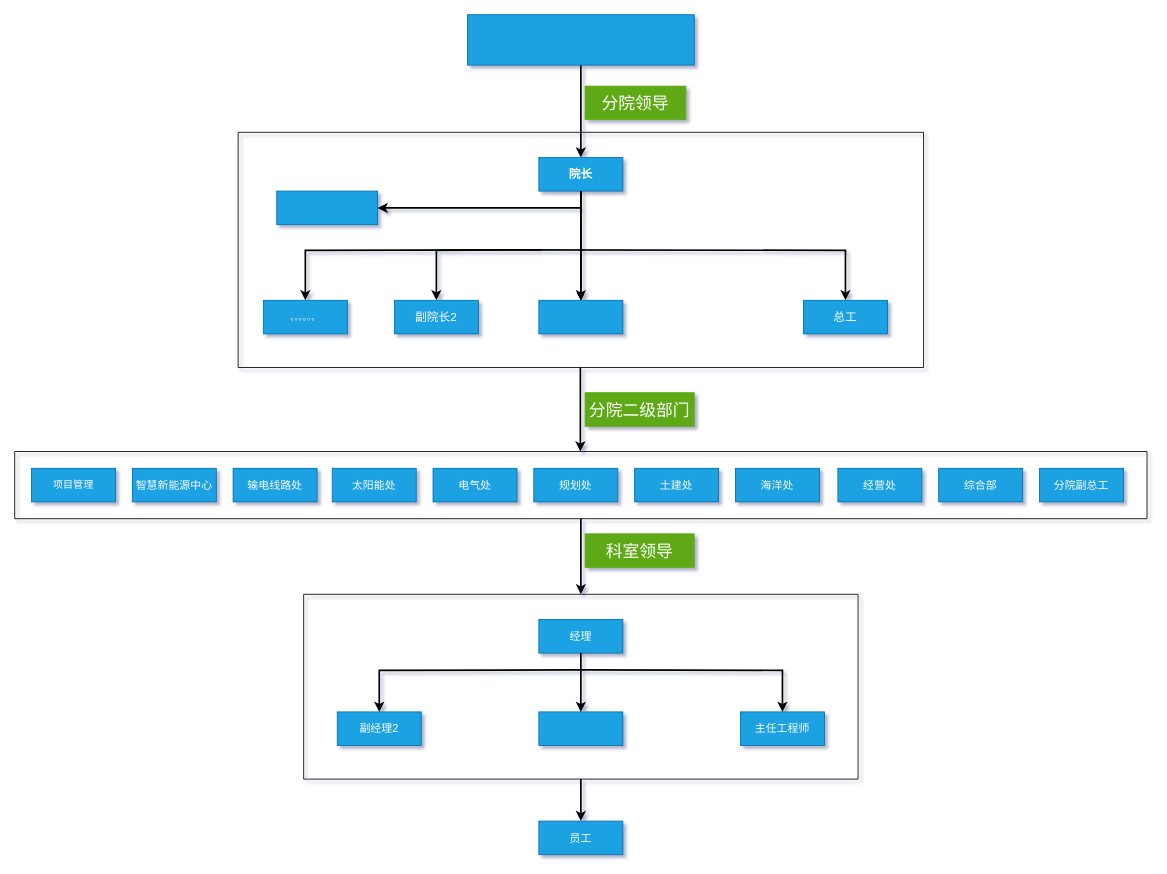
This 1167x874 diagram has some shape labels left out. Each missing label, with the centre of its shape:
副经理1: the point at 580,728
副院长1: the point at 580,316
系能源与电力工程院: the point at 580,39
院副总工/分院总工: the point at 327,207
